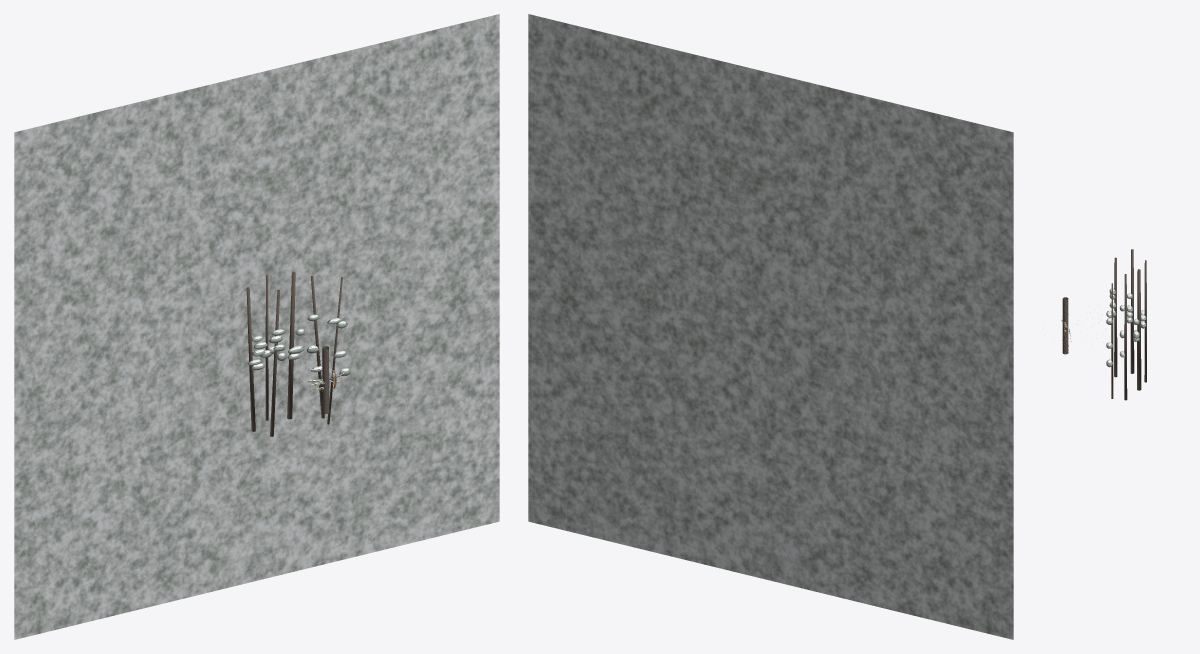
The model's file is SquirrelScene.fbx.
The picture shows the model from 3 angles, left to right: view 1: azimuth 30°, elevation 25°; view 2: azimuth 150°, elevation 25°; view 3: azimuth 270°, elevation 25°; orthographic projection. The views are drawn at different scales.
Visible parts, largest first — view 1: Backdrop, BackgroundTrunks, BackgroundBoughs; view 2: Backdrop; view 3: BackgroundTrunks, BackgroundBoughs, Trunk, BackgroundSnow.
Boxes of the visible parts, <box> form: Backdrop: <box>14,14,499,639</box>; BackgroundTrunks: <box>246,272,342,436</box>; BackgroundBoughs: <box>247,315,350,375</box>; Backdrop: <box>528,14,1013,639</box>; BackgroundTrunks: <box>1111,249,1146,400</box>; BackgroundBoughs: <box>1106,290,1146,367</box>; Trunk: <box>1062,297,1068,354</box>; BackgroundSnow: <box>1107,288,1145,363</box>.
Bounding box in the file's own units: 70.4 × 70.4 × 21.51.
Materials: 12 (5 with a texture image).
